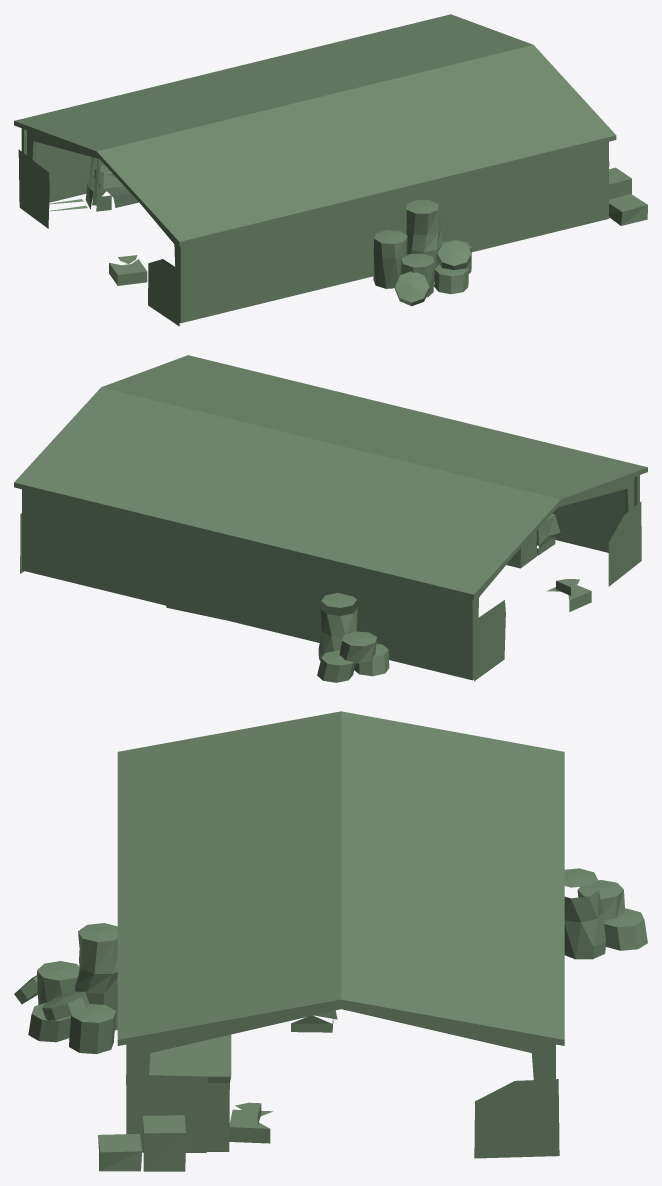
The model's file is warehouse-map.glb.
3 renders of one model, top to bottom at view 1: azimuth 30°, elevation 25°; view 2: azimuth 150°, elevation 25°; view 3: azimuth 270°, elevation 25°, orthographic. The views are drawn at different scales.
Visible parts, largest first — view 1: warehouse_hlod; view 2: warehouse_hlod; view 3: warehouse_hlod.
Part boxes in pixels (x1,y1,x2,y2): warehouse_hlod: [14, 14, 647, 326]; warehouse_hlod: [14, 355, 647, 682]; warehouse_hlod: [14, 711, 647, 1171].
Size of the model in its own units: 26.26 by 6.42 by 22.87.
